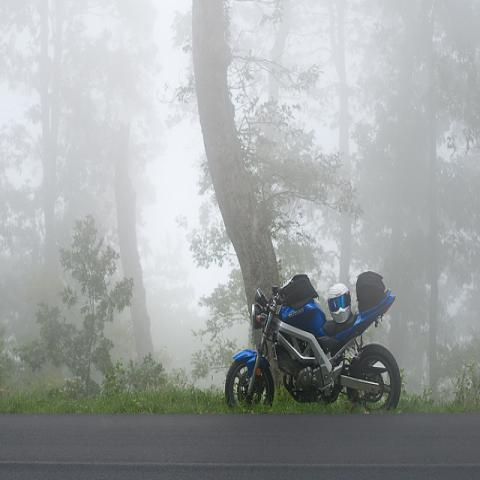motorcycle: (225, 272, 402, 411)
